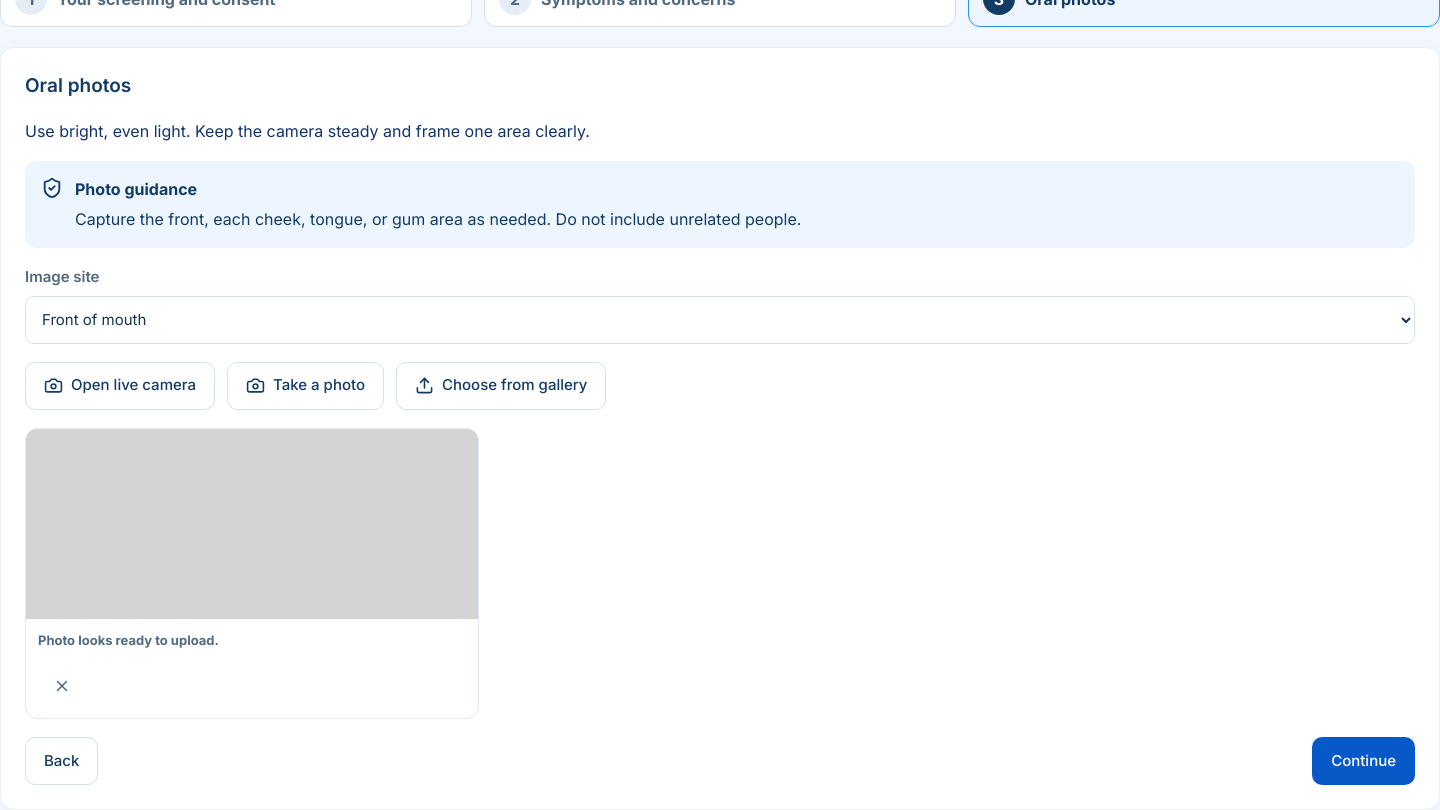
Test case: screening workflow › lets patients consent, screen themselves, and upload an image without searching other patients
This screenshot has width=1440, height=810.
Earlier steps of the test are not shown.
(page scrolled)
Click the button "Continue".
click(1364, 761)  # box [1312,737,1415,785]
(page scrolled)
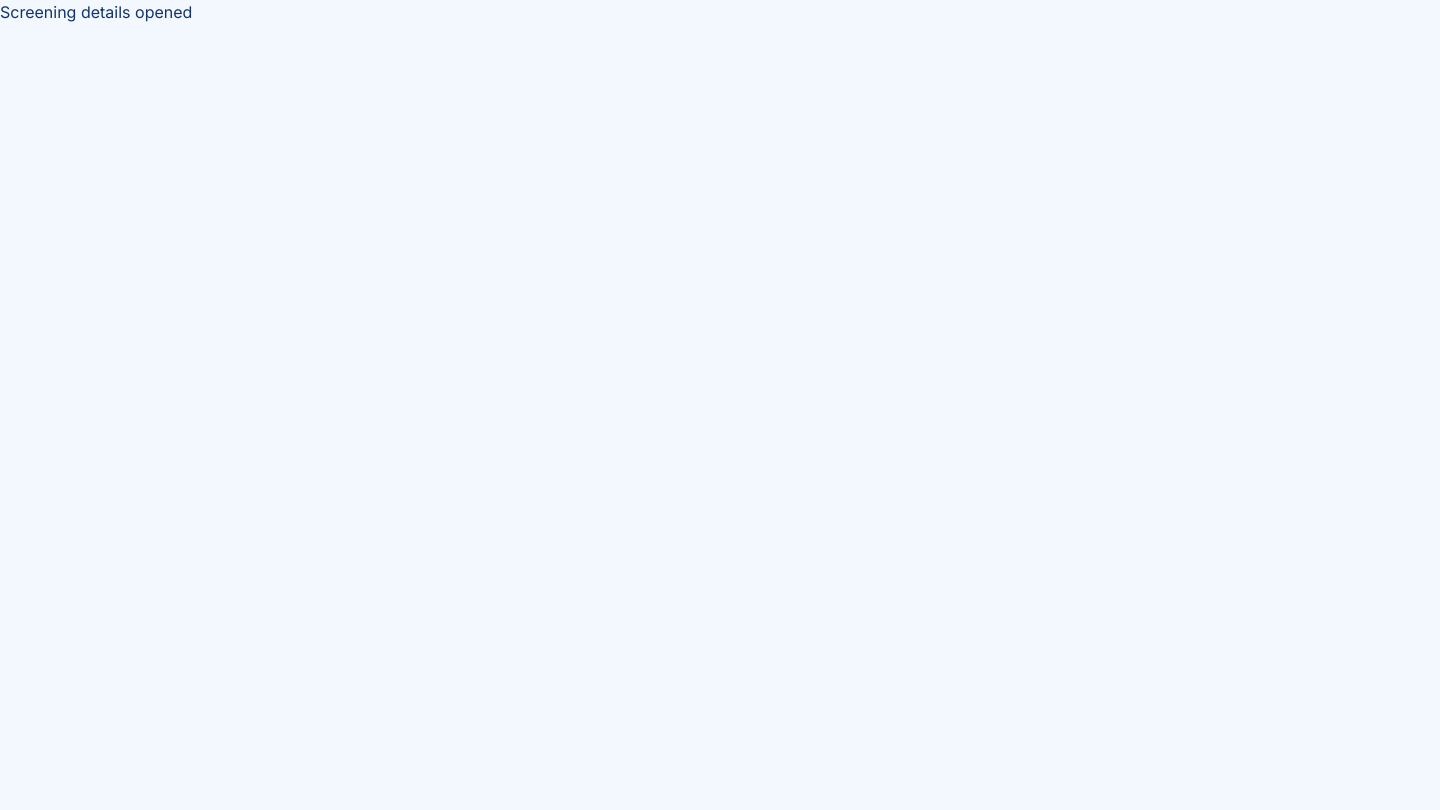
Expected: the text "Screening details opened" is shown, [0,2,192,22]
